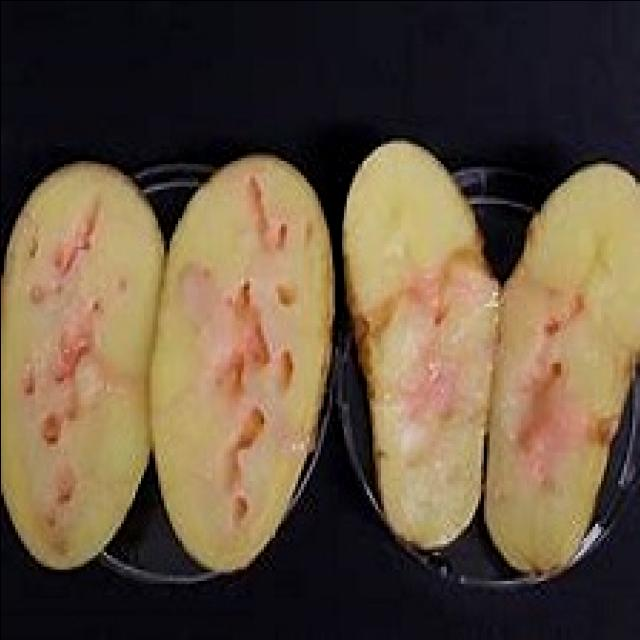pink_rot: (0, 132, 340, 580), (334, 124, 640, 586)
